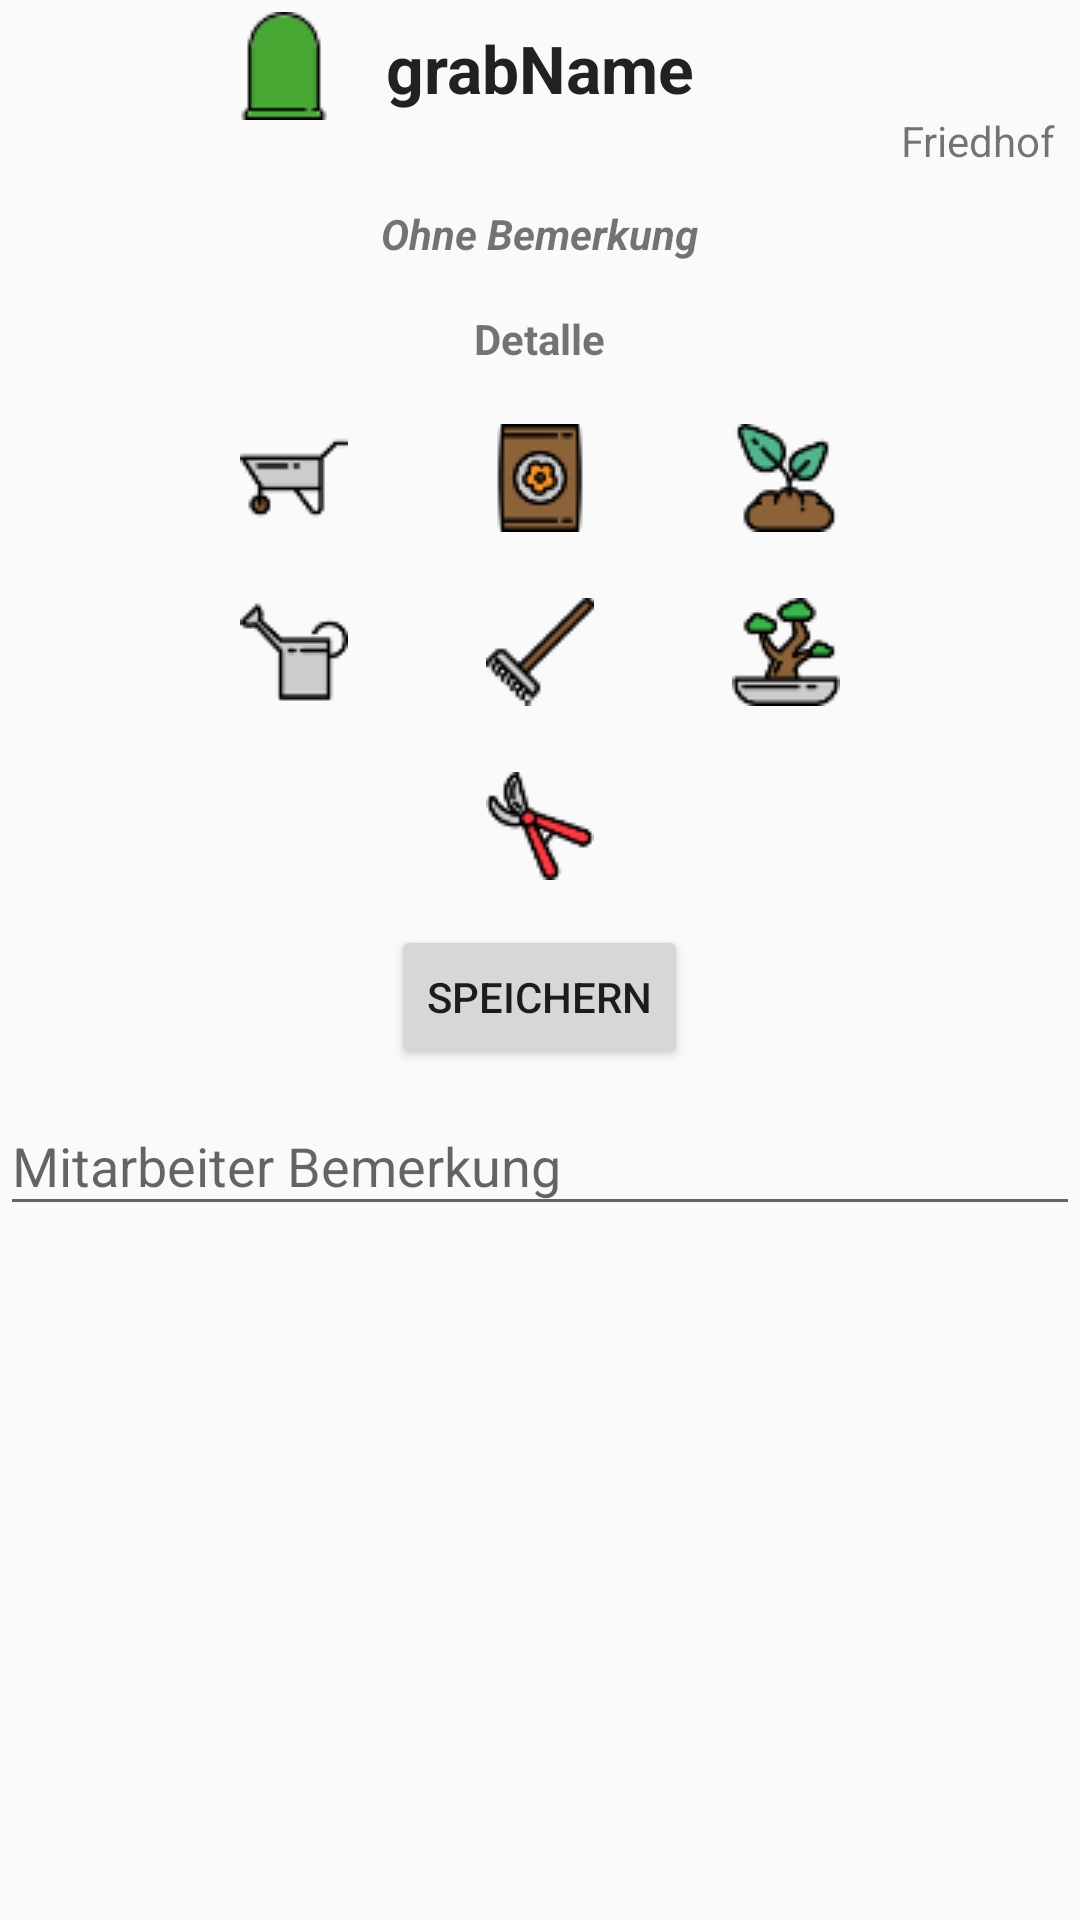

Icon click points for this 1080px x 1920px phone screenshot, format point (x, y):
decorar: point (786, 652)
grab vacia: point (284, 66)
limpiar: point (540, 652)
pflege: point (540, 826)
plantar: point (786, 478)
recoger: point (294, 478)
regar: point (294, 652)
tierra: point (540, 478)
